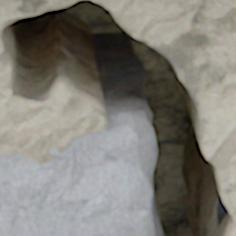brick: (0, 126, 153, 235)
crack: (0, 0, 235, 235)
